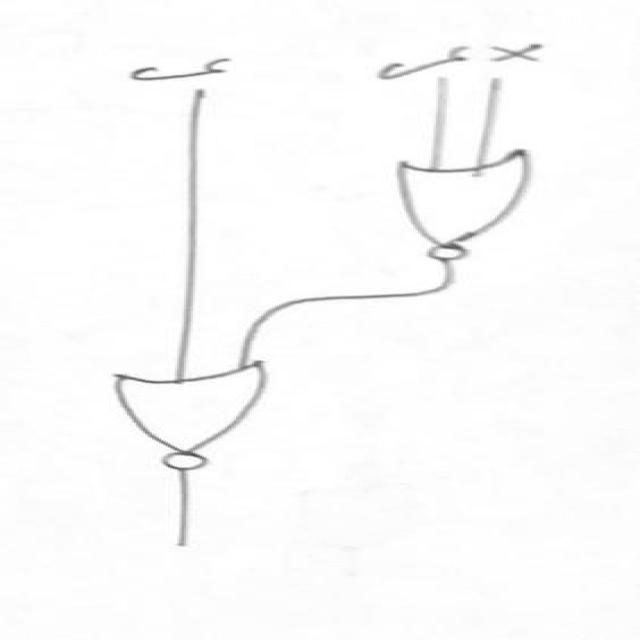NOR: (82, 356, 315, 474), (380, 149, 557, 266)
